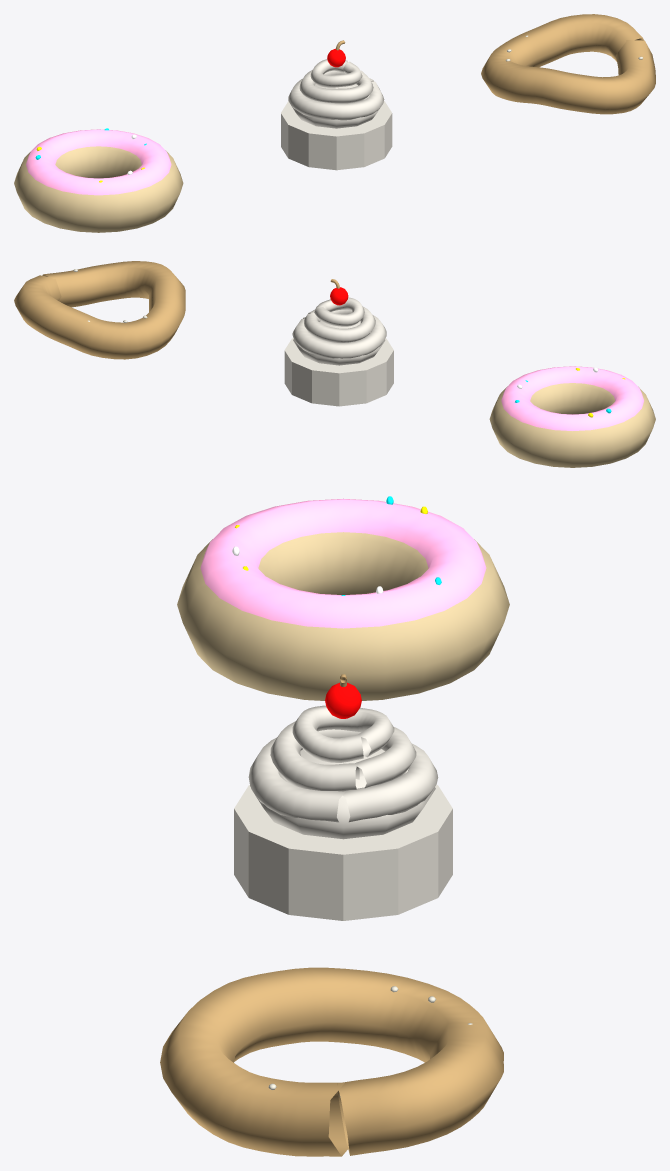
Rendered from churus_postres_r7.glb.
3 views of the same model, one above another, from view 1: azimuth 30°, elevation 25°; view 2: azimuth 150°, elevation 25°; view 3: azimuth 270°, elevation 25° (orthographic). The views are drawn at different scales.
Parts seen in each view (by area): view 1: platform_donut dough, platform_churro golden spiral, cupcake wrapper; view 2: platform_donut dough, platform_churro golden spiral, cupcake wrapper; view 3: platform_donut dough, platform_churro golden spiral, cupcake wrapper.
Boxes of the visible parts, x1=… form: platform_donut dough: x1=14, y1=128, x2=183, y2=232; platform_churro golden spiral: x1=481, y1=14, x2=655, y2=114; cupcake wrapper: x1=281, y1=40, x2=392, y2=170; platform_donut dough: x1=489, y1=366, x2=655, y2=467; platform_churro golden spiral: x1=14, y1=261, x2=185, y2=359; cupcake wrapper: x1=284, y1=279, x2=393, y2=406; platform_donut dough: x1=177, y1=496, x2=509, y2=700; platform_churro golden spiral: x1=160, y1=967, x2=503, y2=1156; cupcake wrapper: x1=234, y1=674, x2=452, y2=920.
Bounding box in the file's own units: 18.39 × 3.01 × 4.54.
